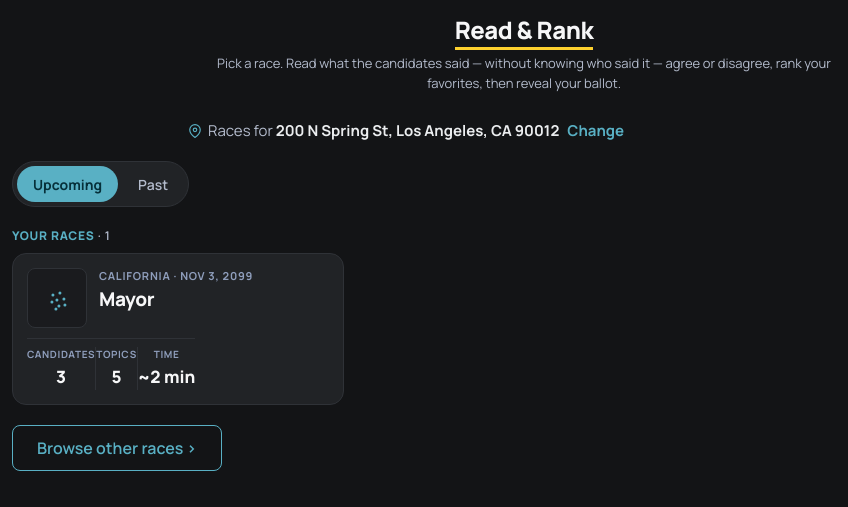
Test: RaceHub race start failure › shows an error and stays on the hub when production quote fetch fails
The image size is (848, 507).
Click the button with aria-label "open mayor race".
click(57, 298)  # box [12,253,344,404]
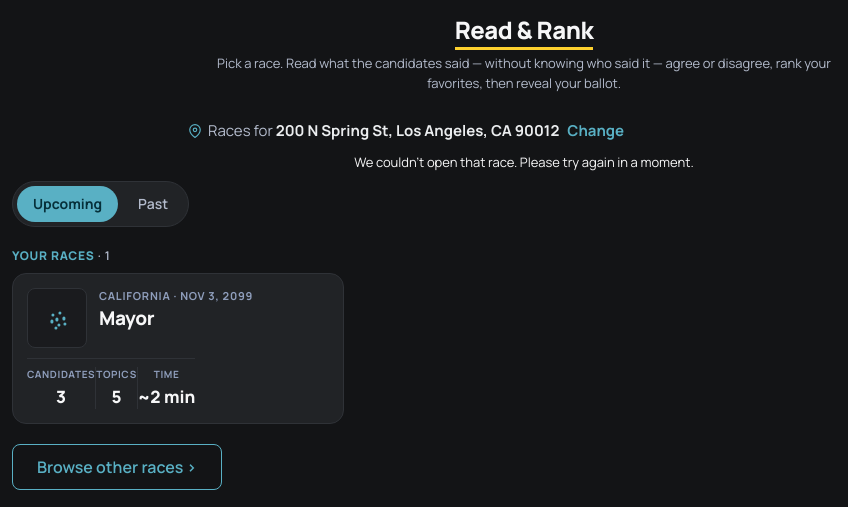
Expected: the text "We couldn't open that race. Please try again in a moment." is shown, [354,153,694,171]
